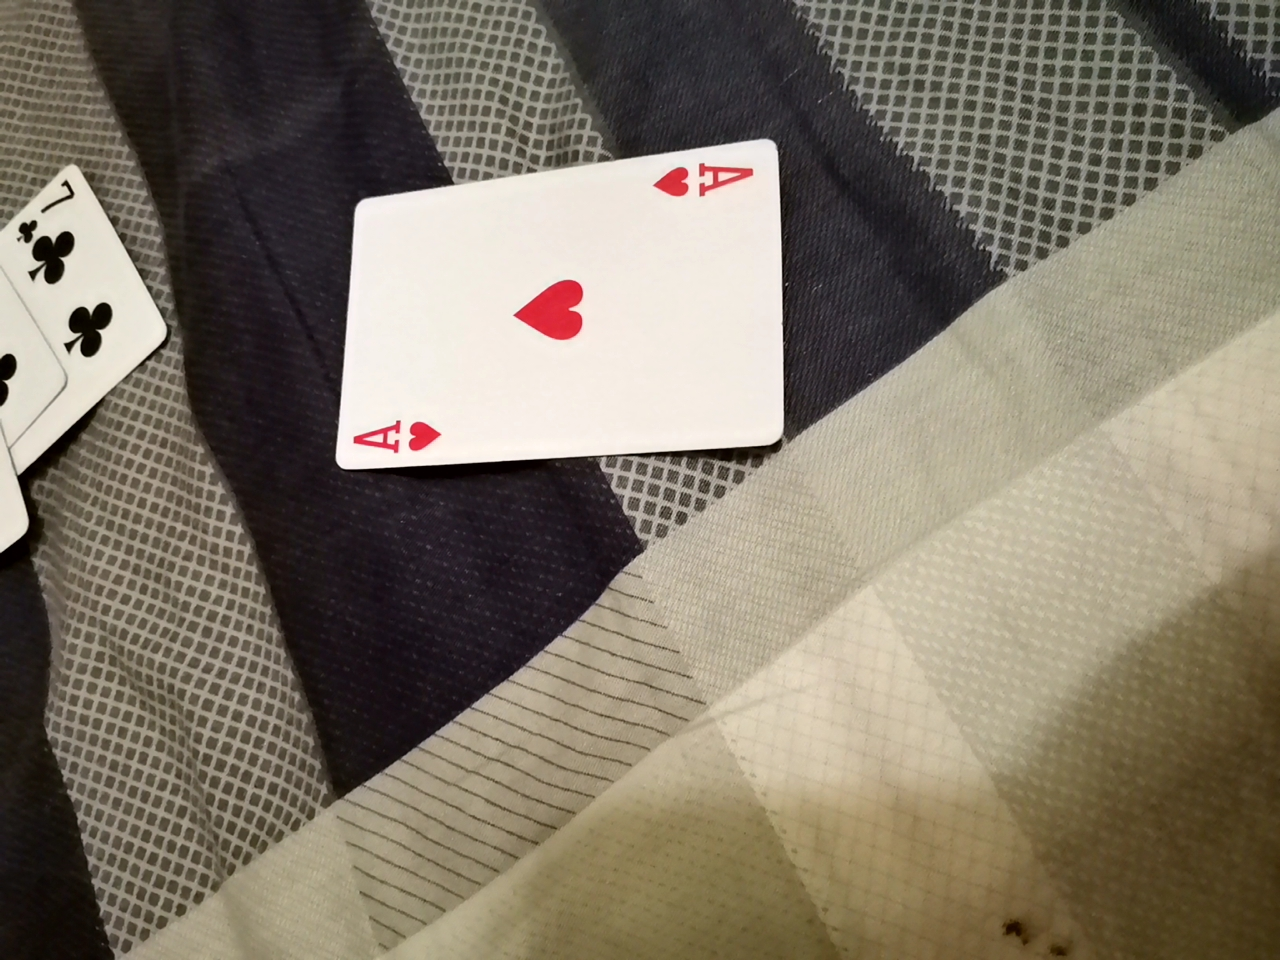hx a: (324, 118, 785, 467)
